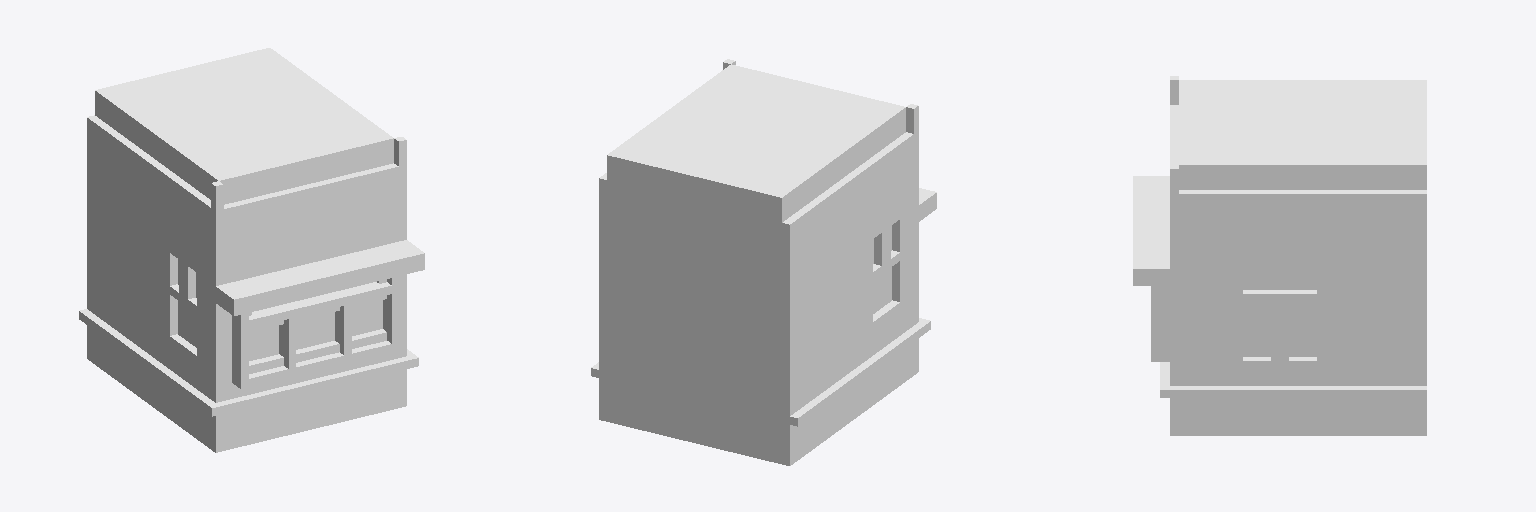
The model's file is tile_2_left_nr_90.obj.
The picture shows the model from 3 angles: view 1: azimuth 30°, elevation 25°; view 2: azimuth 150°, elevation 25°; view 3: azimuth 270°, elevation 25°; orthographic projection.
Parts seen in each view (by area): view 1: object 1; view 2: object 1; view 3: object 1.
Part boxes in pixels (x1,y1,x2,y2): object 1: (79, 48, 424, 452); object 1: (591, 59, 936, 465); object 1: (1133, 76, 1426, 435).
Bounding box in the file's own units: 2.6 × 3.2 × 3.2.